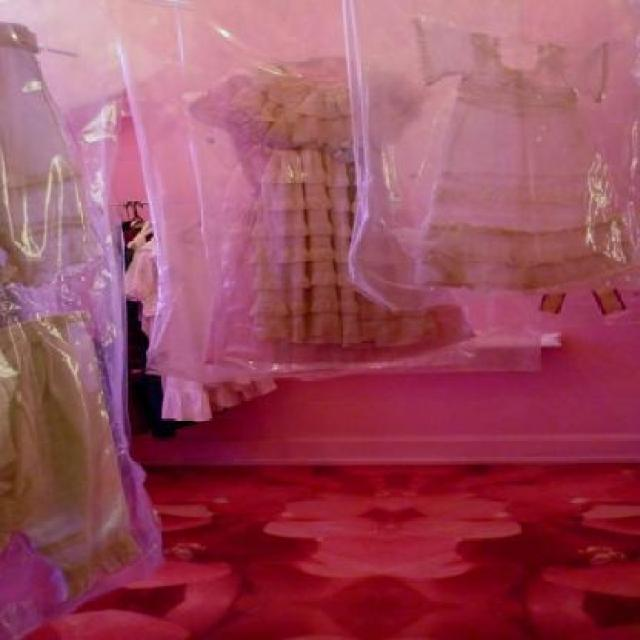plastic bag: (93, 0, 544, 371), (0, 0, 167, 638), (337, 0, 637, 308)
